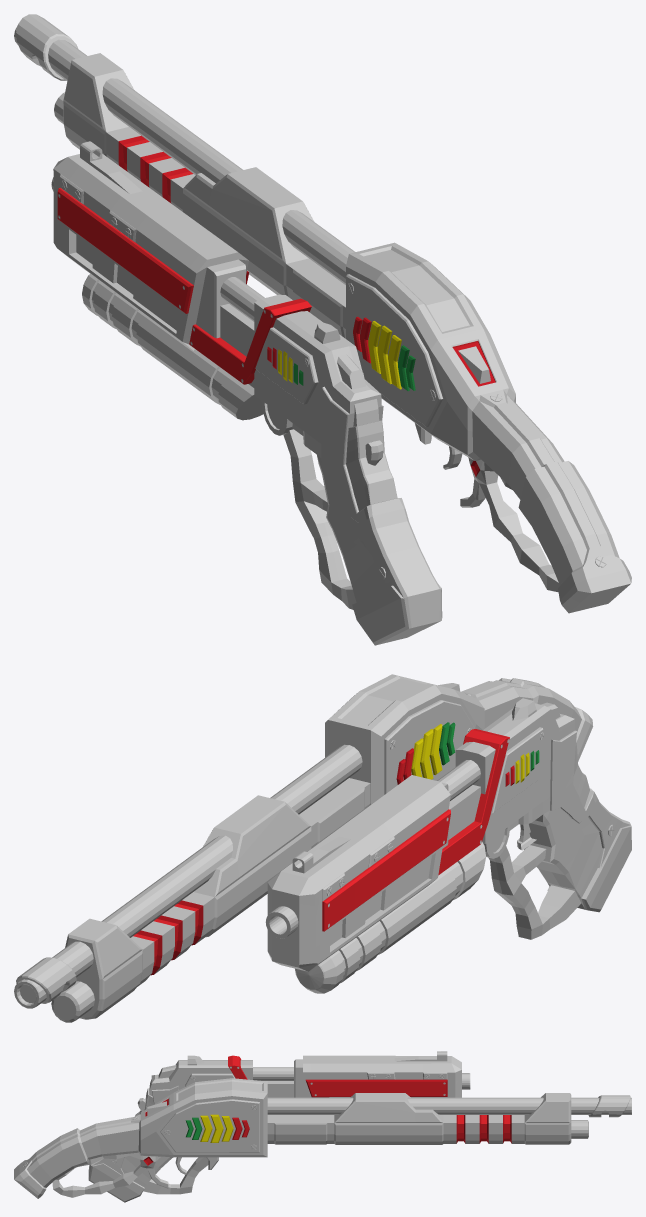
Rendered from CHTO-TO.fbx.
3 views of the same model, one above another, from view 1: azimuth 30°, elevation 25°; view 2: azimuth 150°, elevation 25°; view 3: azimuth 270°, elevation 25° (orthographic). The views are drawn at different scales.
Parts seen in each view (by area): view 1: OBREZ, GUN; view 2: GUN, OBREZ; view 3: OBREZ, GUN.
Part boxes in pixels (x1,y1,x2,y2): OBREZ: (14, 14, 631, 613); GUN: (51, 141, 442, 645); GUN: (265, 698, 631, 993); OBREZ: (14, 674, 593, 1022); OBREZ: (14, 1078, 631, 1198); GUN: (88, 1051, 470, 1202).
Bounding box in the file's own units: 31.77 × 45.72 × 175.
